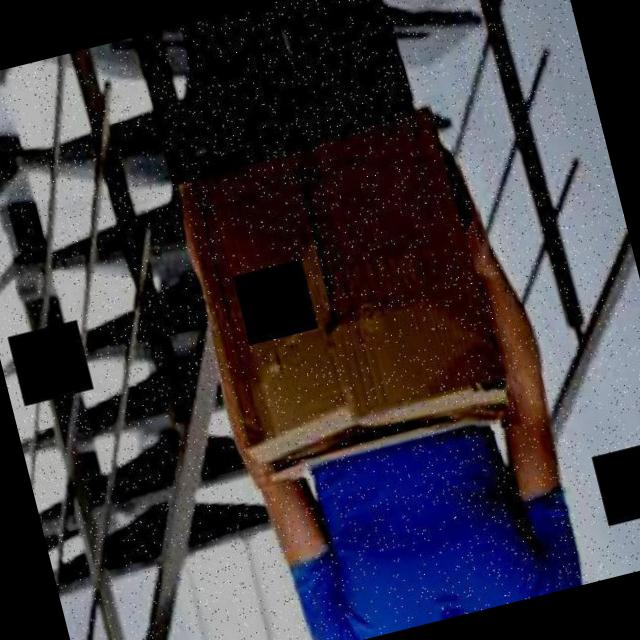box: (168, 92, 523, 490)
